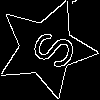S: (21, 23, 78, 73)
